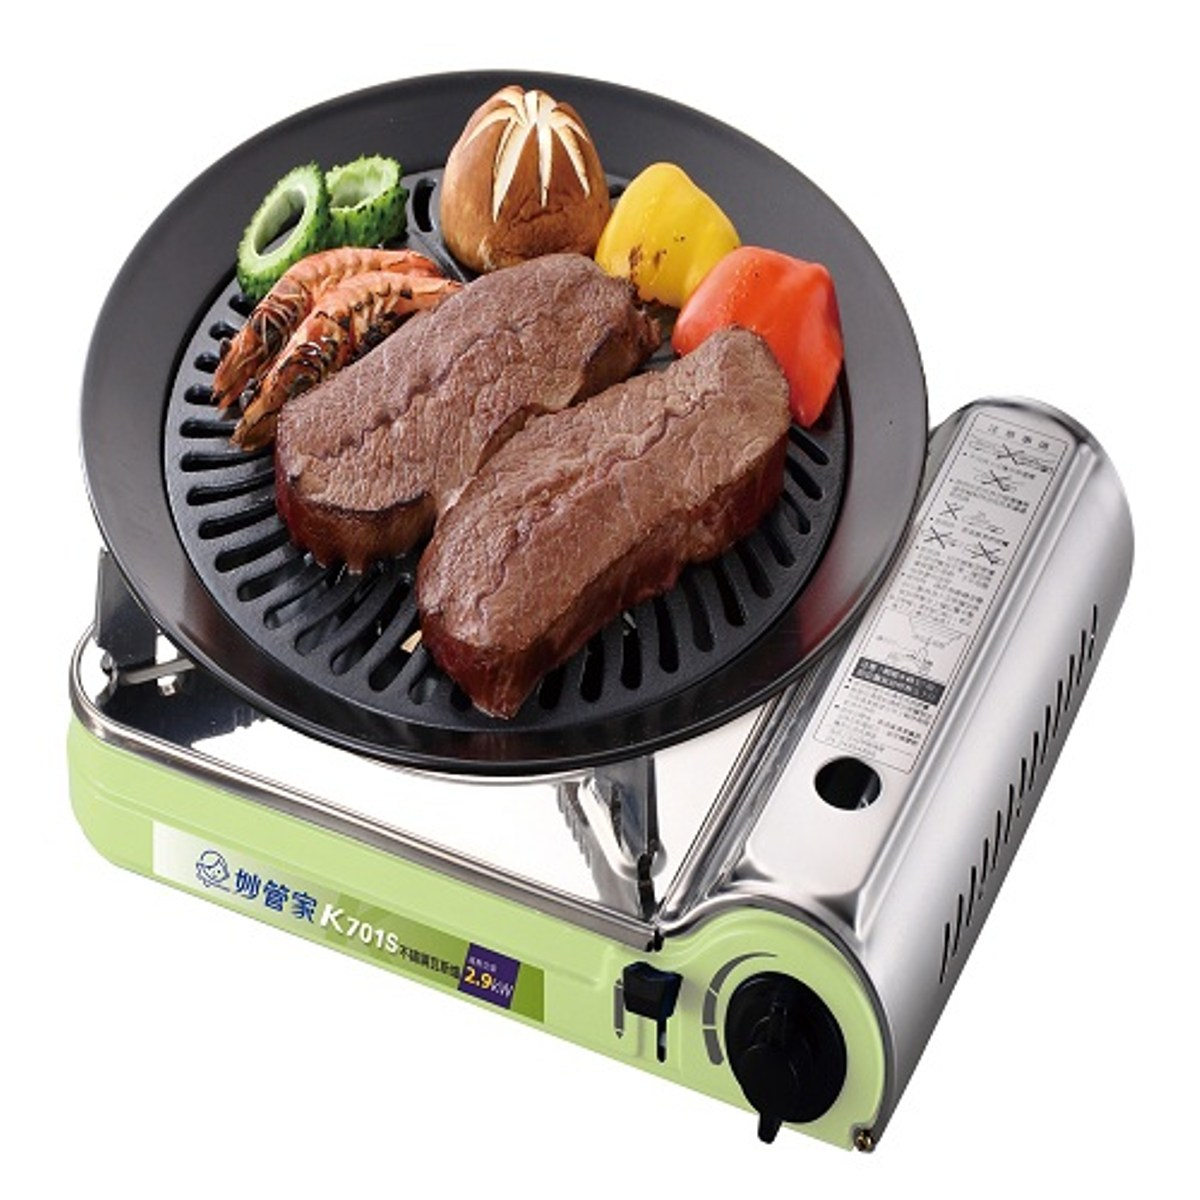gasoven: (65, 346, 1138, 1143)
